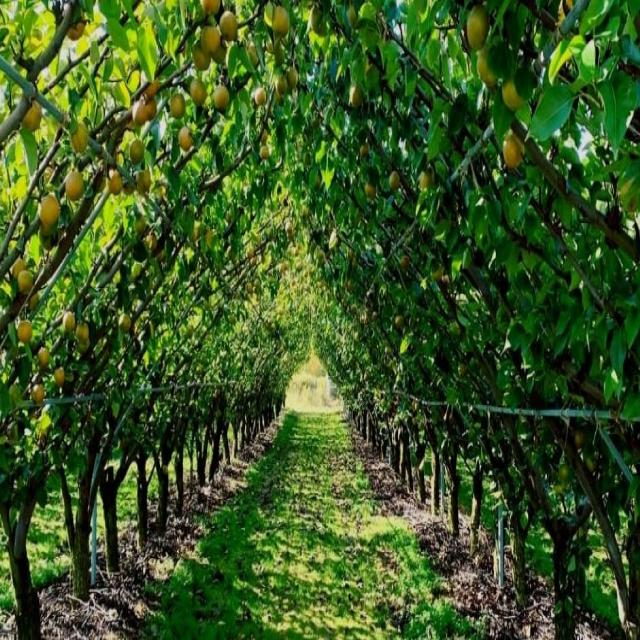row: (87, 409, 503, 640)
